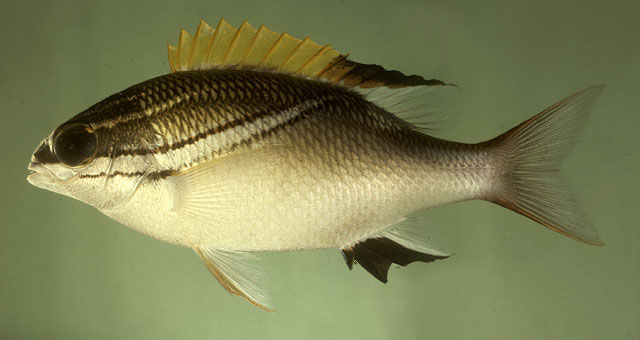fish: (25, 16, 609, 313)
